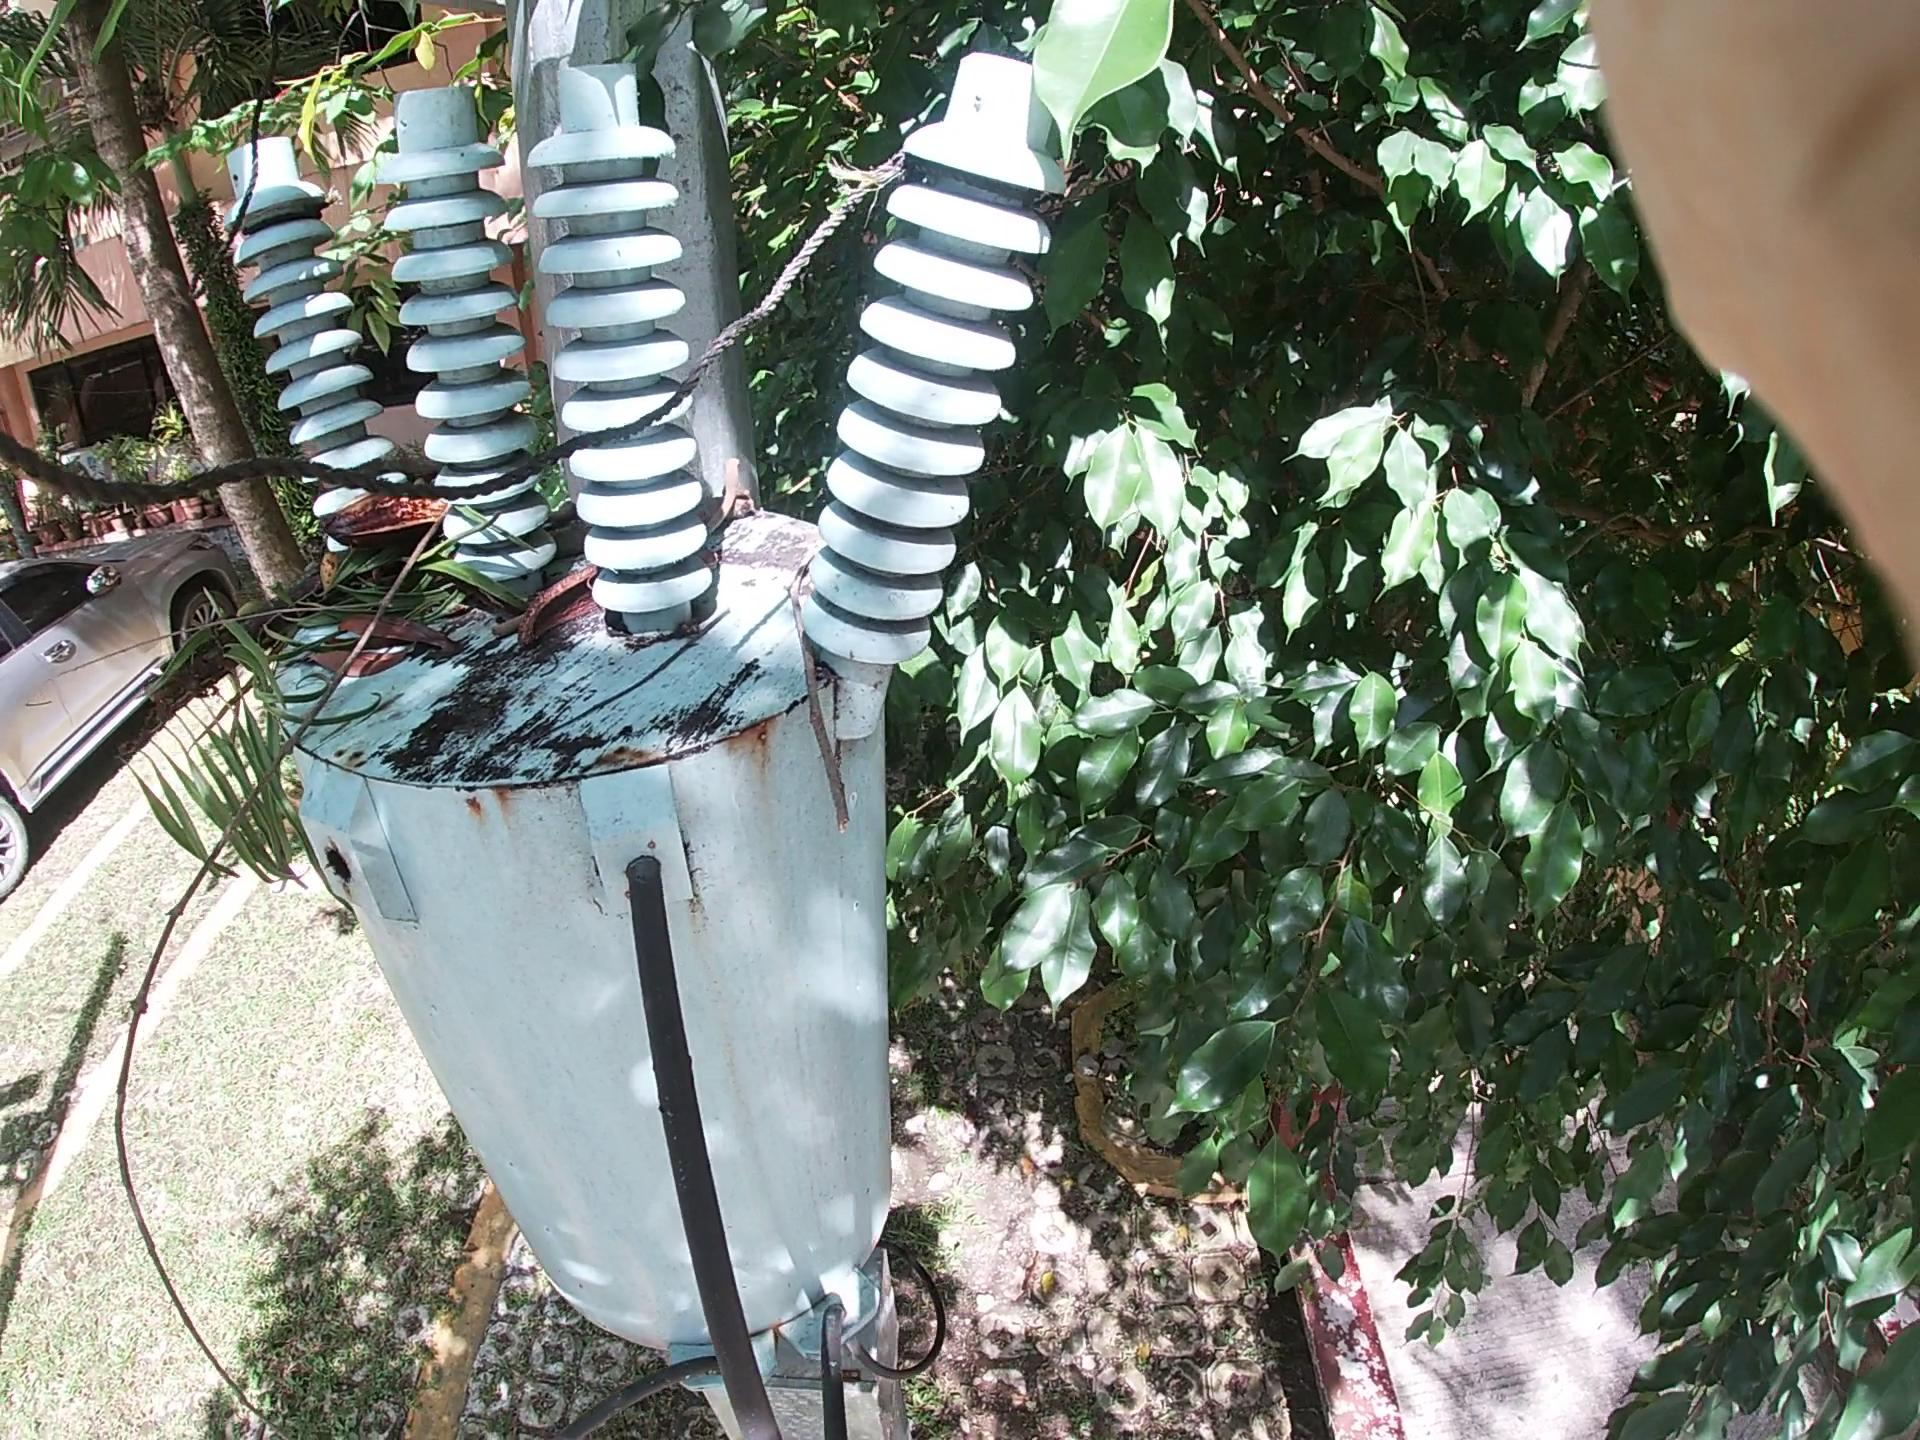branch with leaves: (101, 351, 562, 924)
leaf: (314, 610, 451, 717)
mahogany fruit: (228, 470, 499, 591)
tree branch: (110, 507, 457, 1313), (451, 386, 732, 663), (763, 492, 887, 880)
